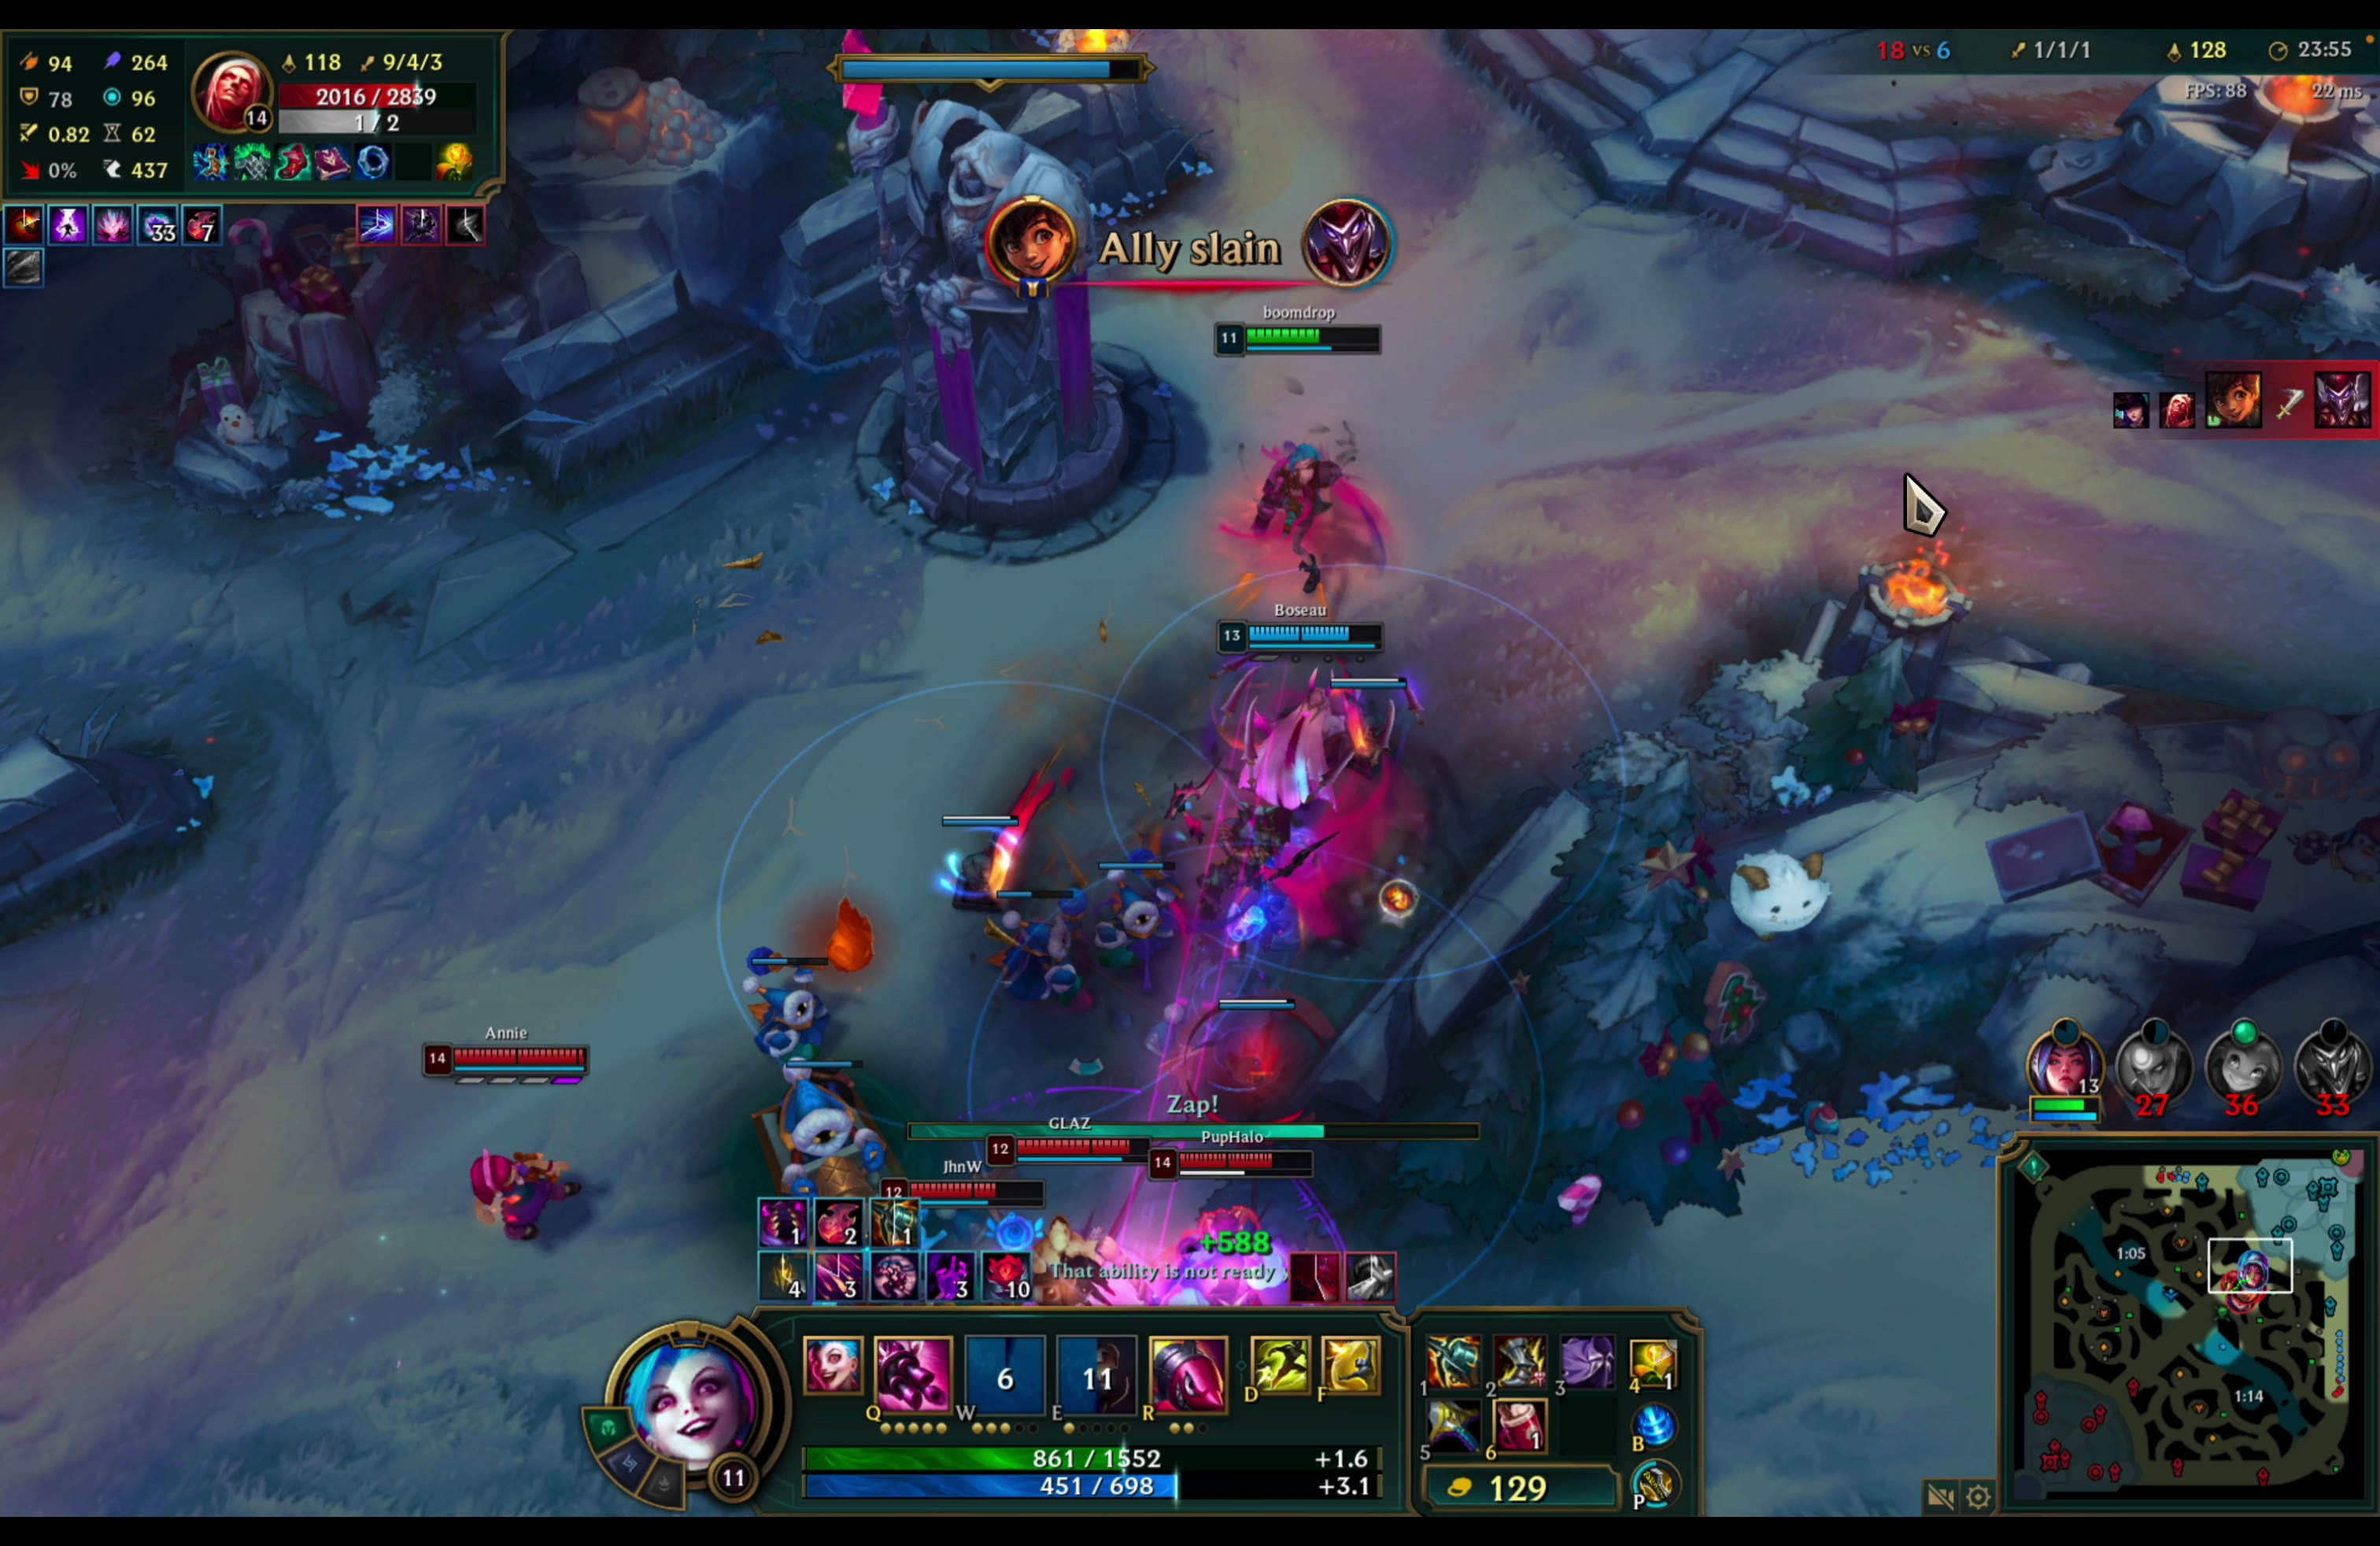JINX_W_PROJECTILE: (1197, 297, 1429, 625)
